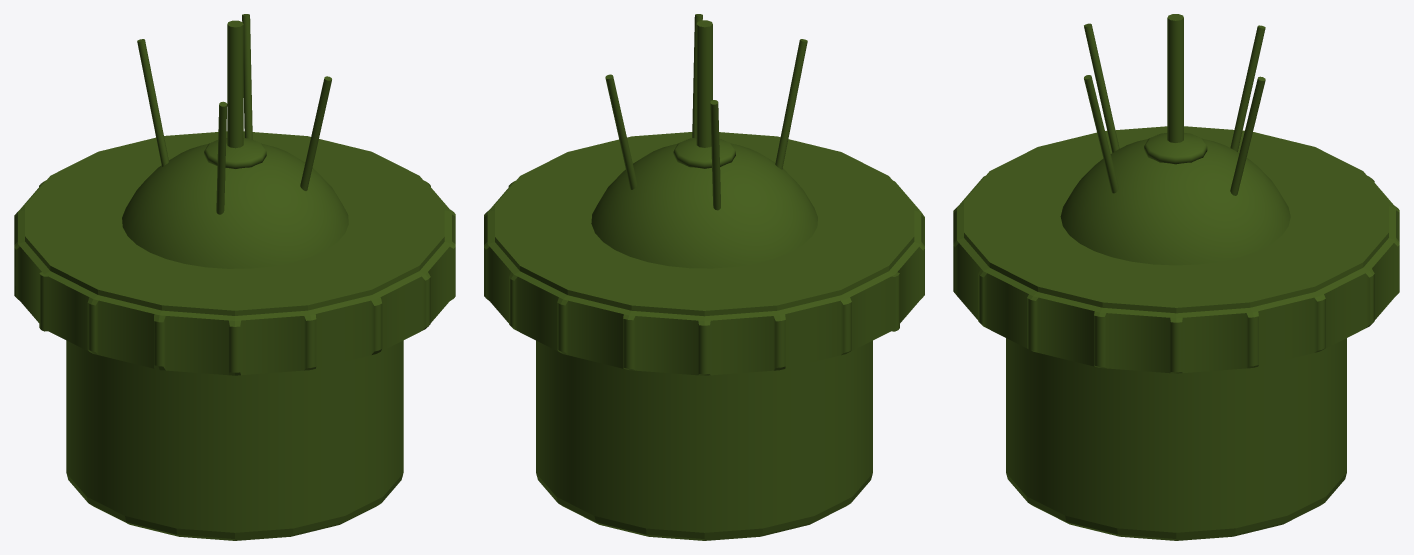
Rendered from Mine_02.fbx.
3 renders of one model, left to right at view 1: azimuth 30°, elevation 25°; view 2: azimuth 150°, elevation 25°; view 3: azimuth 270°, elevation 25°, orthographic.
Visible parts, largest first — view 1: Cylinder001; view 2: Cylinder001; view 3: Cylinder001.
Part boxes in pixels (bbox=[...]): Cylinder001: bbox=[14, 14, 455, 540]; Cylinder001: bbox=[484, 14, 924, 540]; Cylinder001: bbox=[953, 14, 1399, 540].
Size of the model in its own units: 108 by 120 by 107.
